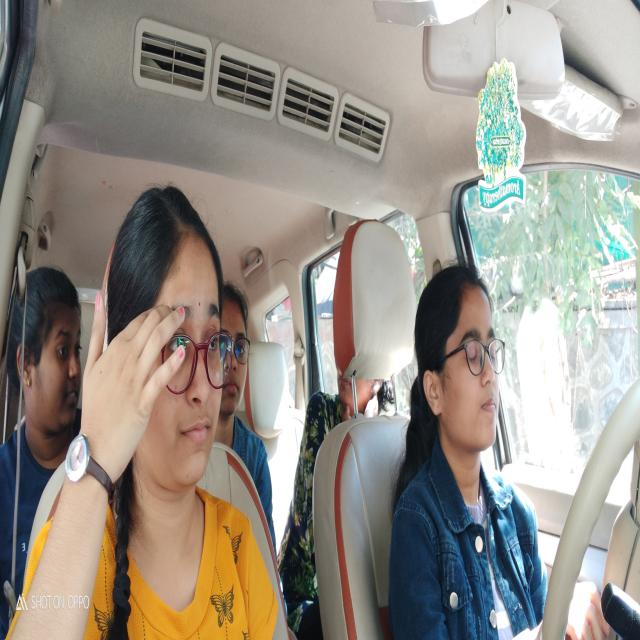drowsy: (417, 271, 504, 452)
person: (110, 200, 227, 488), (16, 284, 82, 421), (220, 276, 252, 412), (333, 365, 384, 411)
